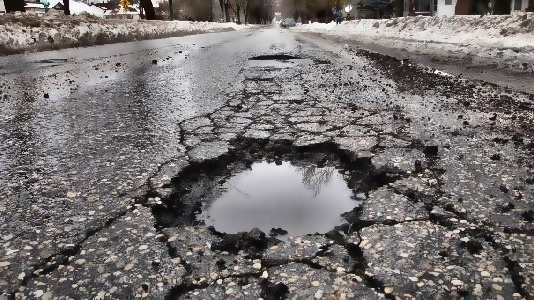pothole: (143, 132, 400, 258), (251, 52, 300, 61)
